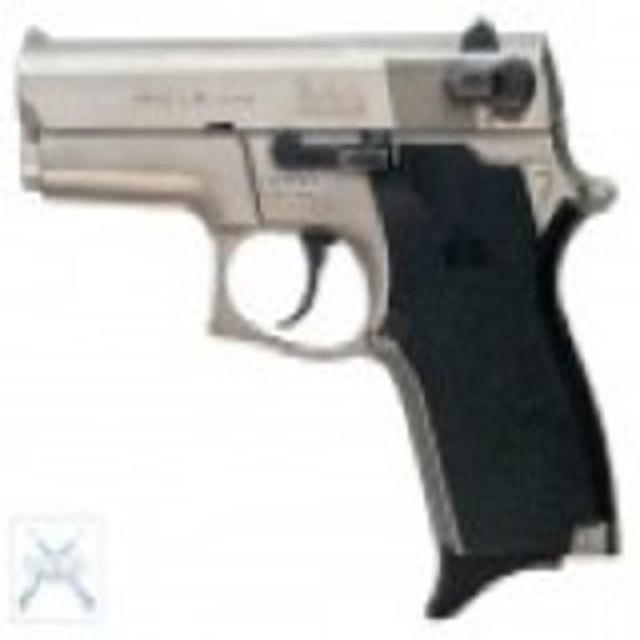pistol: (15, 10, 620, 602)
